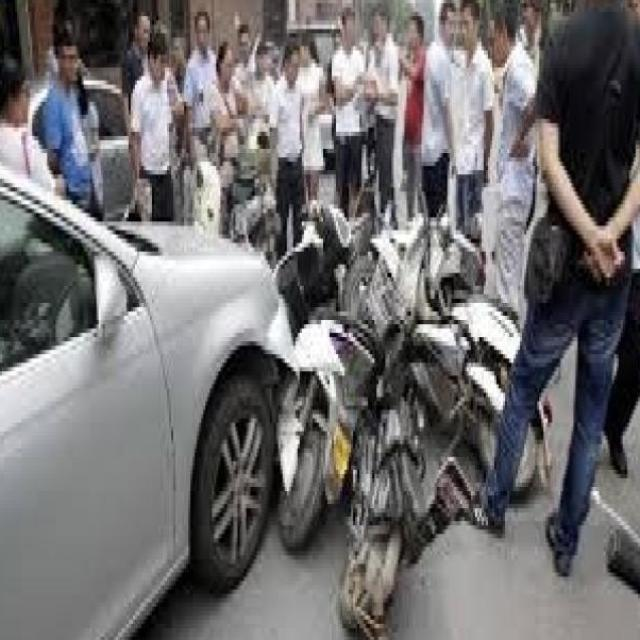accident: (249, 152, 569, 632)
